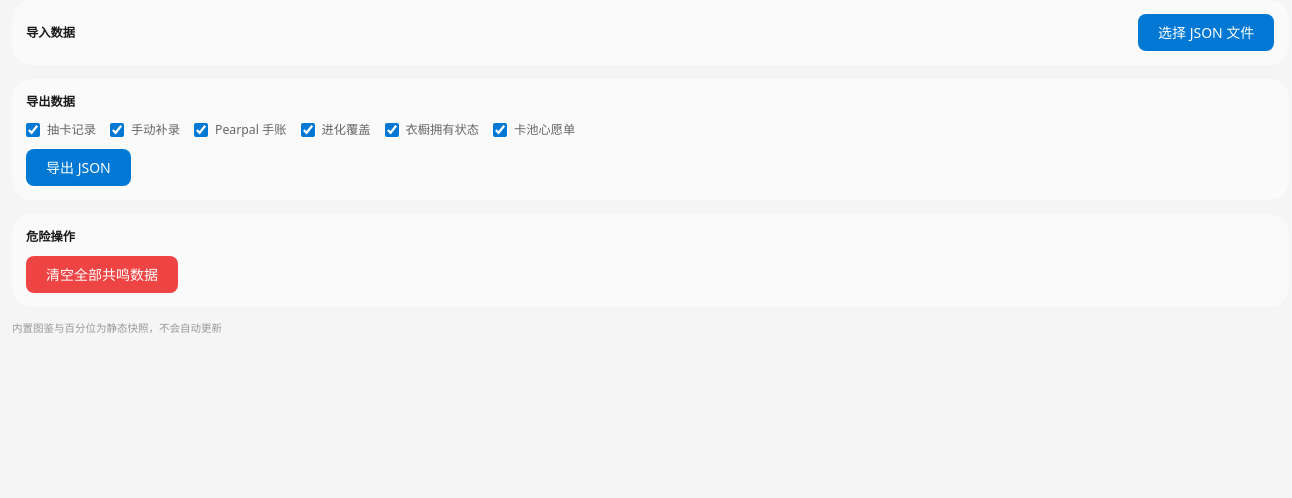
Test: ImportExportView › 版本不兼容给出兼容导入/放弃双选项，放弃后清空预览
Click the button "选择 JSON 文件" at (1206,32), box x1=1138 y1=14 x2=1274 y2=51
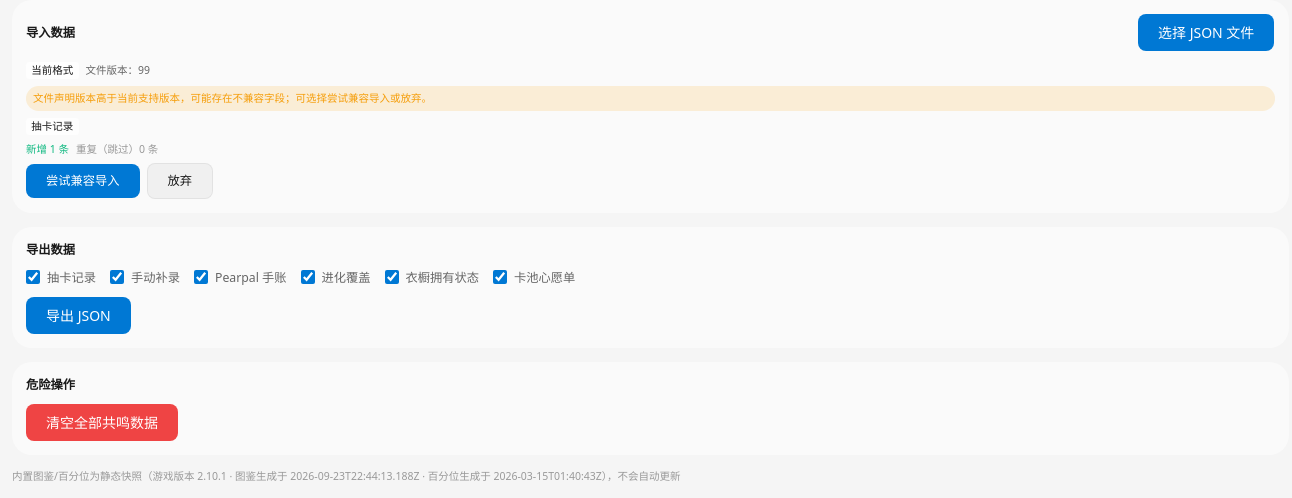
Expected: the text "文件声明版本高于当前支持版本，可能存在不兼容字段；可选择尝试兼容导入或放弃。" is shown, x1=26 y1=86 x2=1274 y2=110
Expected: the button "尝试兼容导入" is shown, x1=26 y1=164 x2=140 y2=198
Click the button "放弃" at (180,181), box x1=146 y1=163 x2=213 y2=198
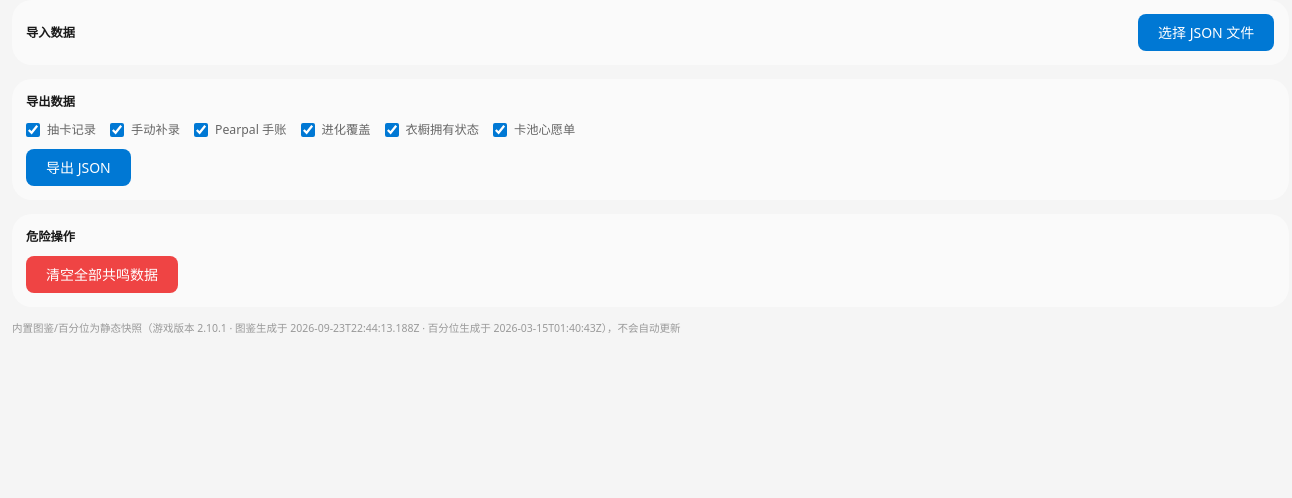
Expected: the text "高于当前支持版本" is gone
